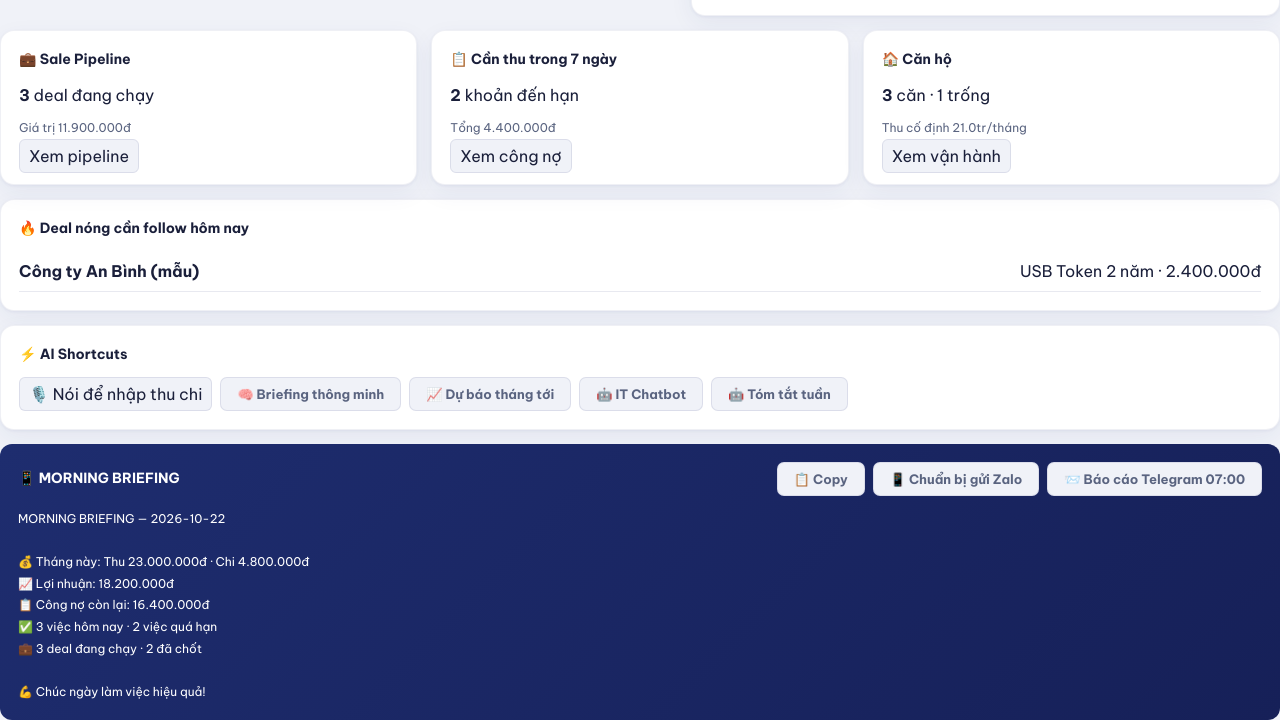
Test case: editable screens › renders dashboard totals and opens the mock AI result
This screenshot has width=1280, height=720.
(page scrolled)
Click the button "🧠 Briefing thông minh" at coordinates (311, 394), box [220,377,401,411]
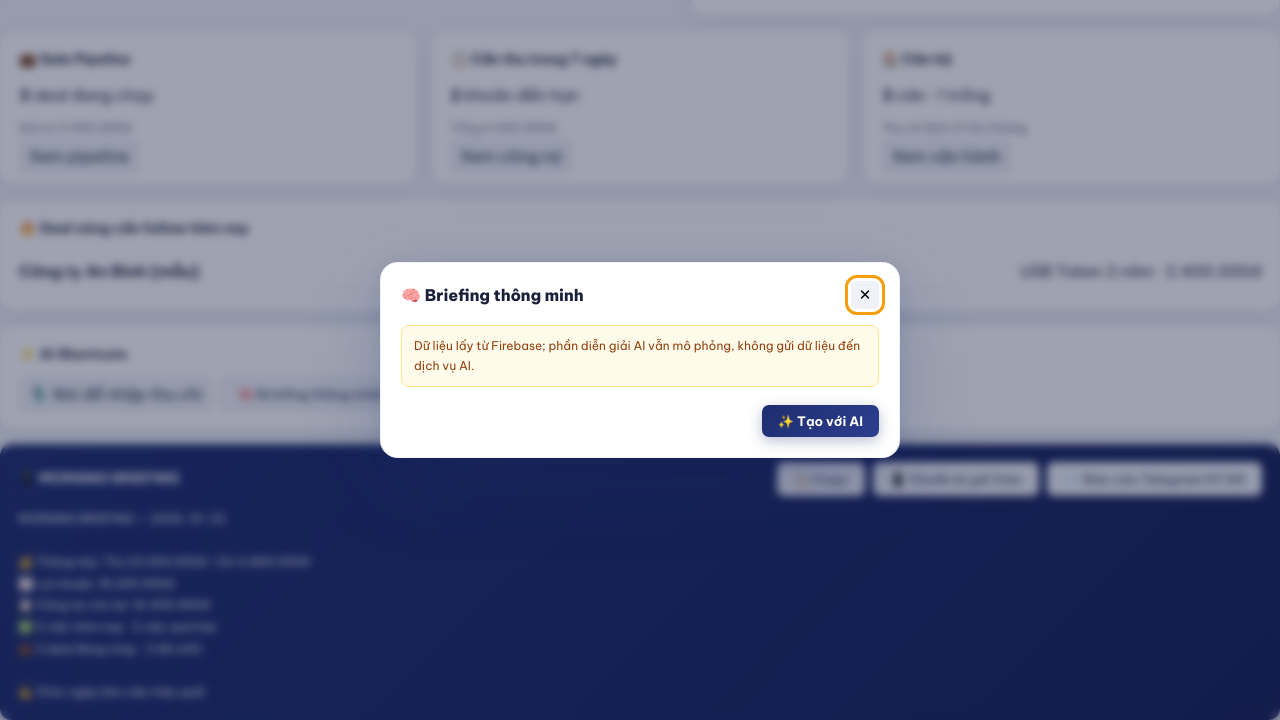
Click the button "✨ Tạo với AI" at coordinates (820, 421), box [762,405,879,437]
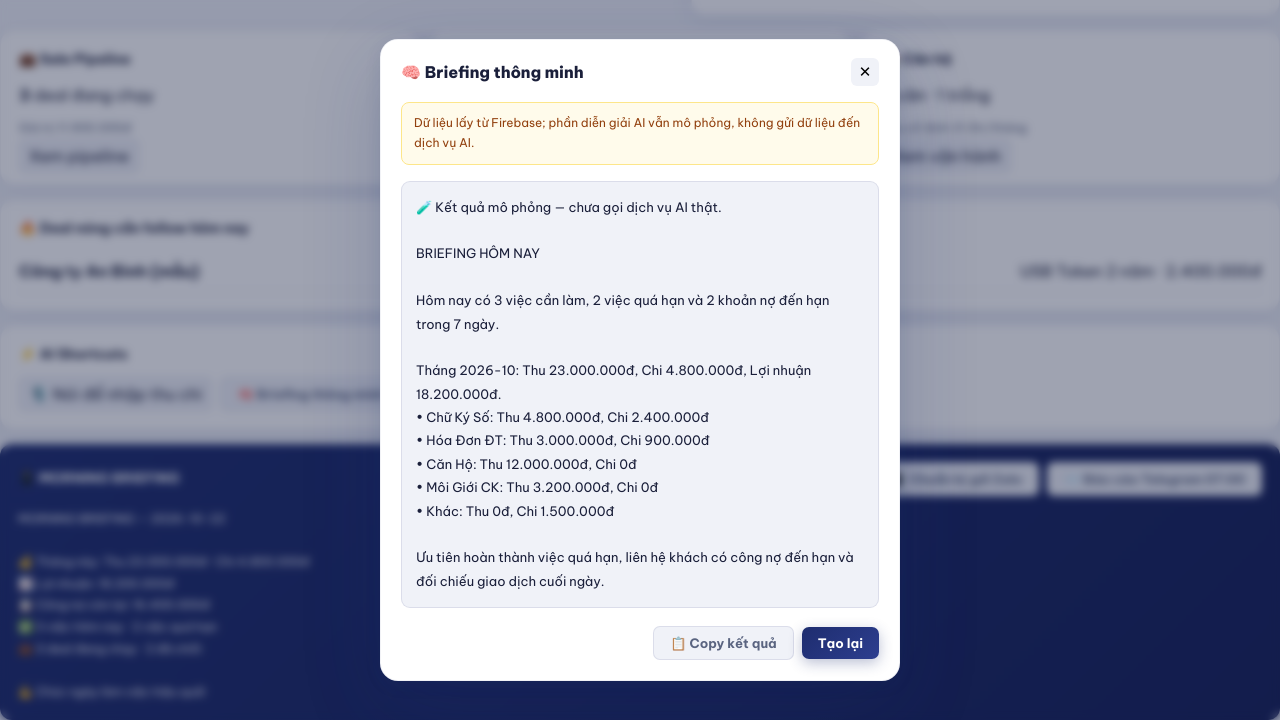
Now the text "Kết quả mô phỏng" is shown, box [416,199,857,589]
